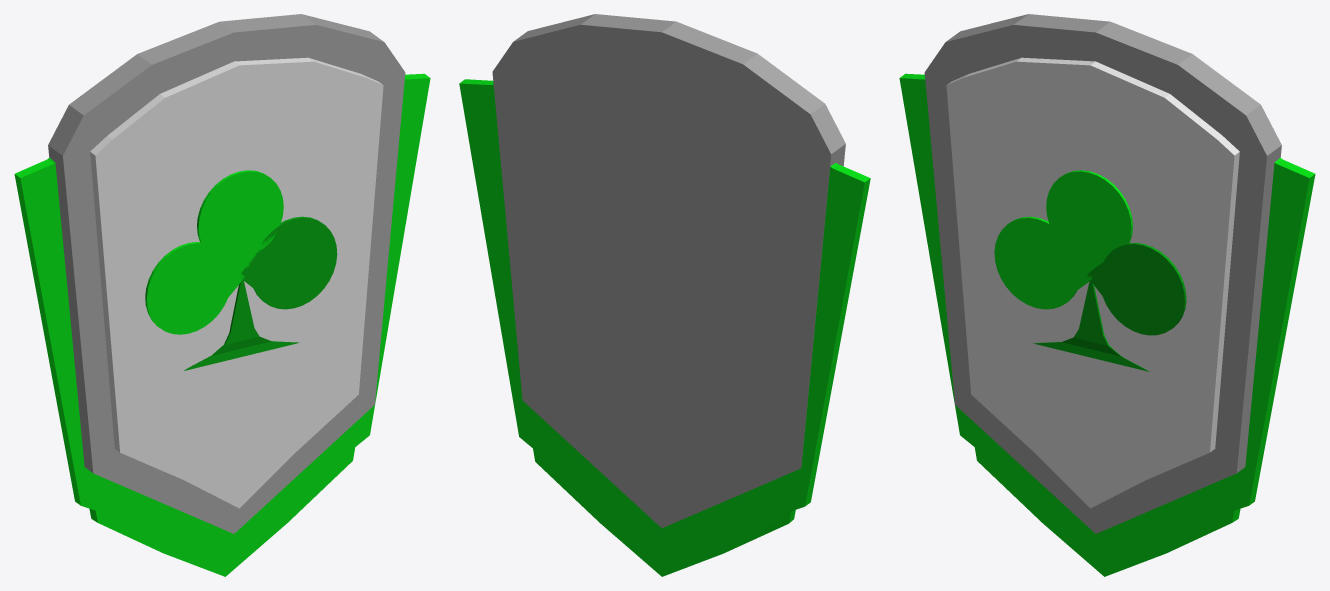
Rendered from Shield_Black_1.fbx.
3 renders of one model, left to right at view 1: azimuth 30°, elevation 25°; view 2: azimuth 150°, elevation 25°; view 3: azimuth 330°, elevation 25°, orthographic.
Parts seen in each view (by area): view 1: Cube.012, Cube.015, Cube.014, Cylinder.008, Cylinder.007, Cylinder.006, Cube.013; view 2: Cube.015, Cube.014; view 3: Cube.012, Cube.015, Cube.014, Cylinder.007, Cylinder.008, Cylinder.006, Cube.013.
Part boxes in pixels (left/top/right/bottom): Cube.012: left=90, top=57, right=383, bottom=508; Cube.015: left=48, top=14, right=405, bottom=533; Cube.014: left=14, top=73, right=430, bottom=576; Cylinder.008: left=145, top=242, right=244, bottom=334; Cylinder.007: left=239, top=216, right=337, bottom=309; Cylinder.006: left=197, top=170, right=283, bottom=272; Cube.013: left=184, top=280, right=299, bottom=370; Cube.015: left=492, top=14, right=845, bottom=527; Cube.014: left=459, top=79, right=870, bottom=576; Cube.012: left=946, top=57, right=1239, bottom=508; Cube.015: left=924, top=14, right=1281, bottom=533; Cube.014: left=899, top=73, right=1315, bottom=576; Cylinder.007: left=1087, top=243, right=1186, bottom=335; Cylinder.008: left=994, top=216, right=1092, bottom=309; Cylinder.006: left=1046, top=170, right=1132, bottom=273; Cube.013: left=1033, top=280, right=1149, bottom=371.
Bounding box in the file's own units: 614 × 788 × 56.68.
